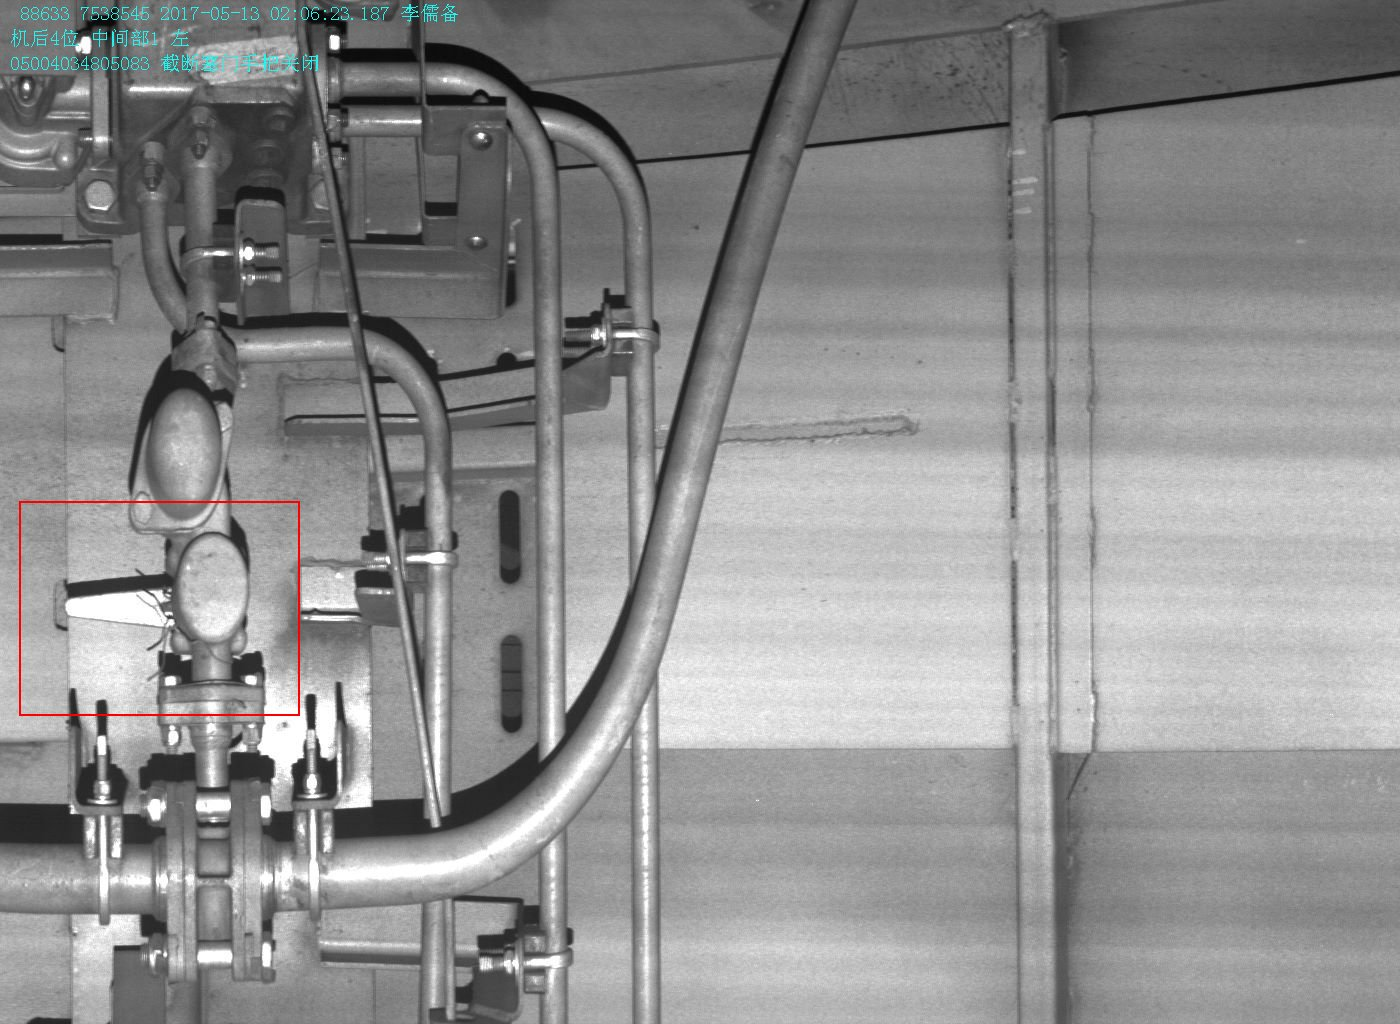truncated plug door handle: (65, 532, 249, 655)
